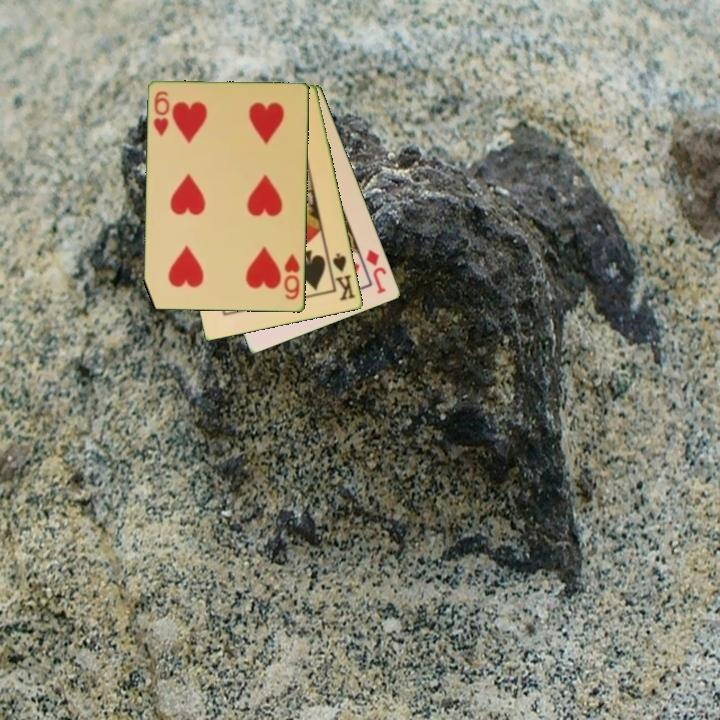6h: (150, 88, 173, 139), (281, 250, 303, 303)
Jd: (363, 246, 390, 297)
Ks: (329, 250, 359, 304)
